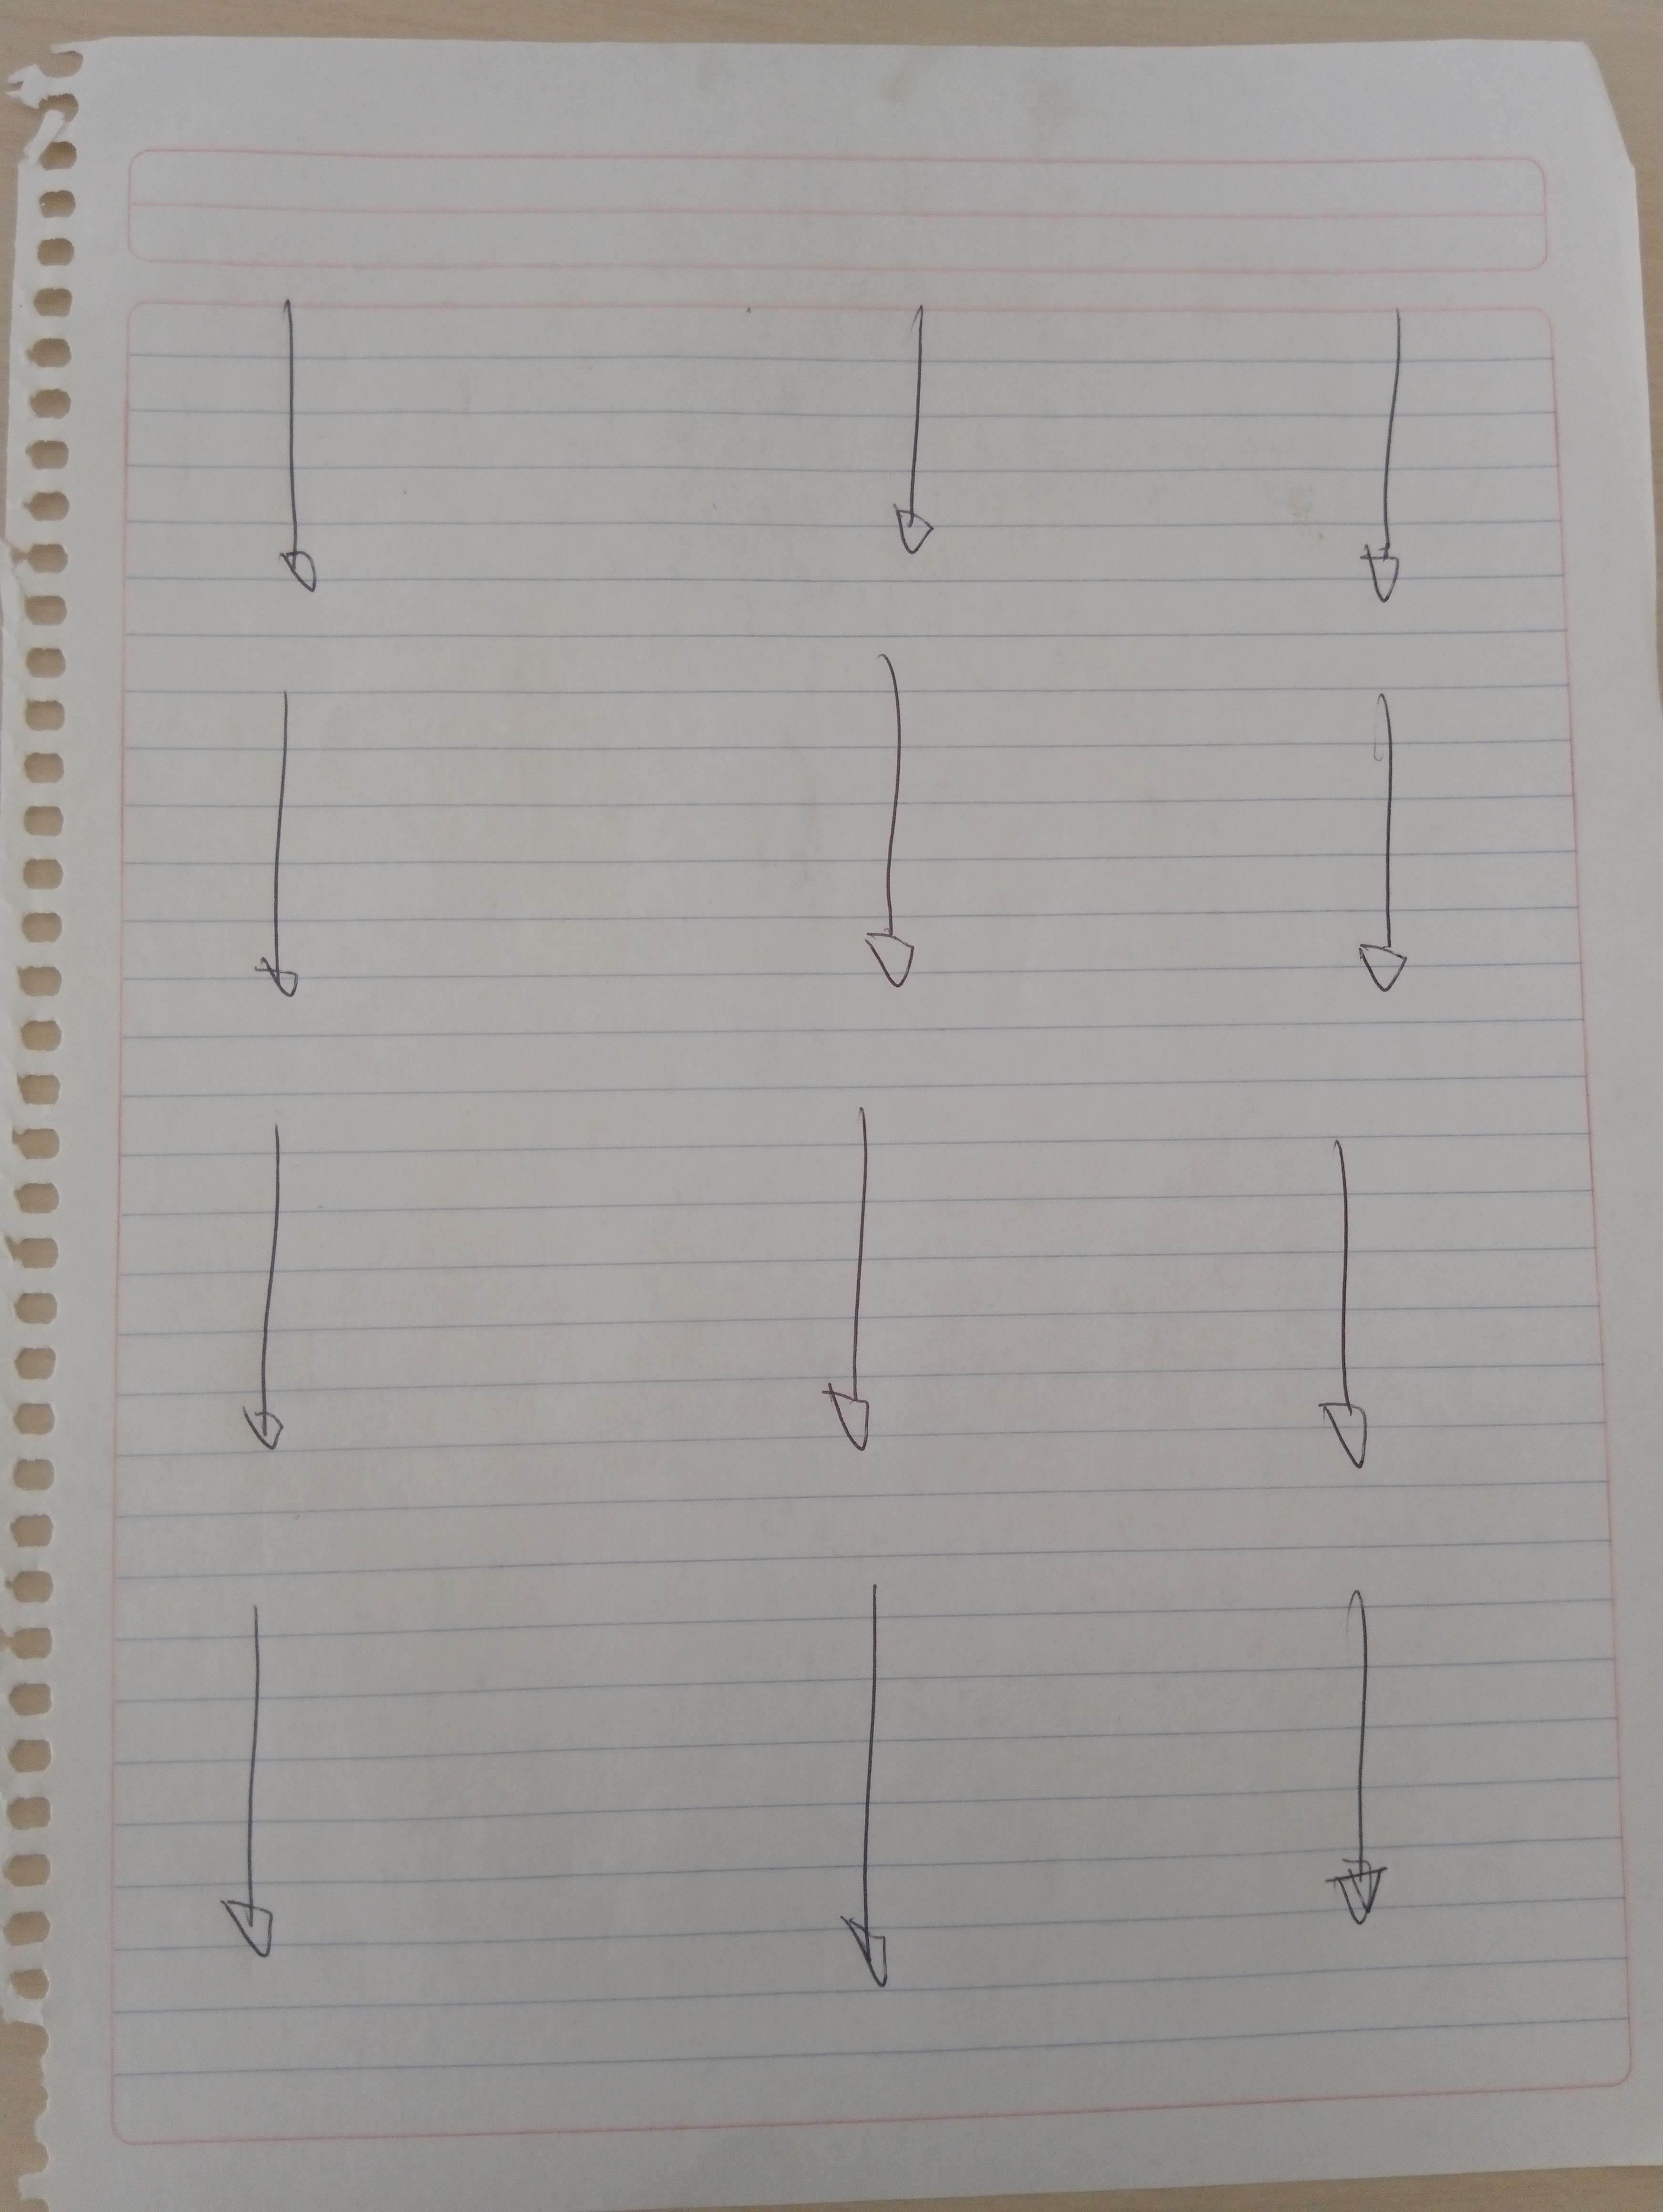arrow_line_down: (814, 1564, 924, 1997), (1310, 1575, 1424, 1934), (227, 281, 346, 611), (1287, 1142, 1410, 1458), (804, 1114, 910, 1465), (206, 1117, 309, 1458), (1328, 302, 1427, 629), (856, 309, 973, 581), (856, 655, 943, 988), (1335, 688, 1427, 992), (232, 702, 323, 999), (210, 1597, 279, 1968)
